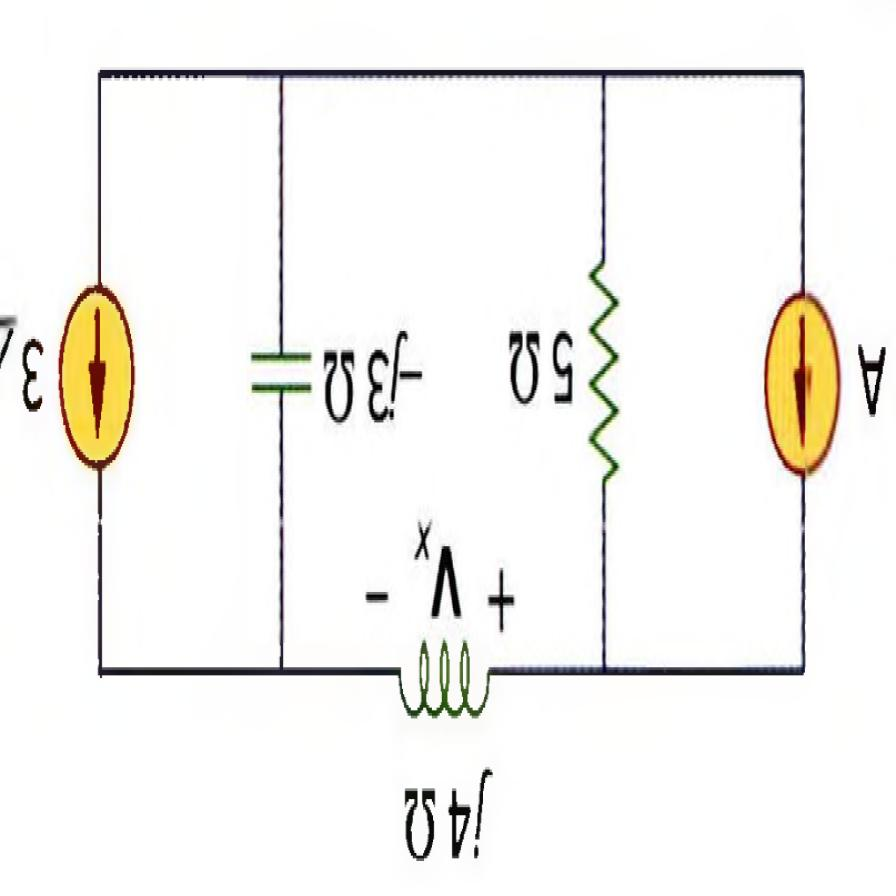C2: (244, 315, 317, 414)
I3: (757, 262, 844, 484), (58, 277, 138, 477)
R2: (577, 232, 632, 492)
